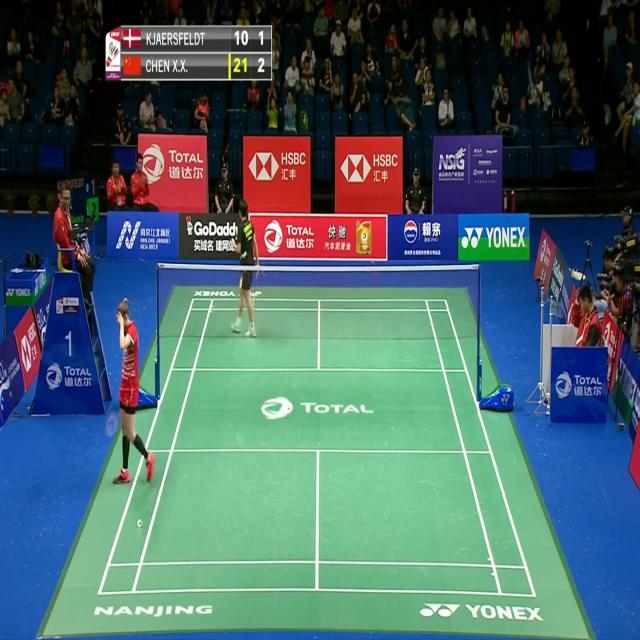Player1: (100, 291, 158, 485)
Player2: (225, 196, 267, 348)
